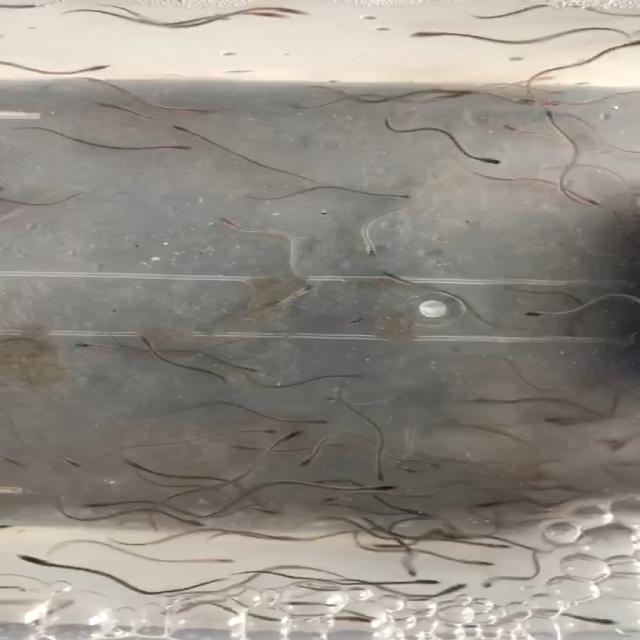active_glass_eel: (137, 138, 218, 162), (336, 304, 380, 336), (284, 272, 333, 300), (190, 105, 248, 128), (446, 556, 514, 573), (165, 514, 217, 536), (66, 338, 124, 357), (4, 550, 58, 570), (107, 454, 159, 472), (279, 596, 325, 616), (373, 575, 442, 587), (439, 578, 479, 598), (570, 612, 626, 626), (456, 575, 499, 593), (366, 261, 400, 283), (128, 334, 164, 354), (352, 245, 392, 263), (479, 541, 533, 554), (186, 556, 243, 568), (205, 213, 251, 227), (258, 608, 298, 624), (92, 98, 124, 118), (469, 394, 511, 409), (406, 27, 448, 42), (336, 614, 379, 628), (322, 370, 382, 380), (363, 538, 405, 552), (386, 192, 428, 206), (396, 506, 424, 526), (364, 482, 409, 494), (467, 155, 512, 167), (278, 425, 304, 445), (538, 417, 578, 430), (467, 498, 510, 510), (430, 86, 480, 96), (276, 8, 314, 21), (362, 470, 388, 488), (524, 308, 550, 326), (229, 362, 271, 373), (257, 500, 280, 520), (395, 558, 414, 582), (296, 455, 322, 472), (62, 454, 84, 474), (306, 414, 337, 428), (250, 422, 274, 440), (309, 398, 379, 404), (524, 95, 566, 105), (82, 64, 113, 77), (580, 194, 610, 207), (0, 460, 33, 470), (616, 38, 640, 50), (250, 14, 285, 22), (162, 125, 192, 134), (536, 112, 558, 124), (492, 124, 518, 134), (398, 466, 423, 476), (315, 494, 335, 506), (224, 441, 244, 452)
